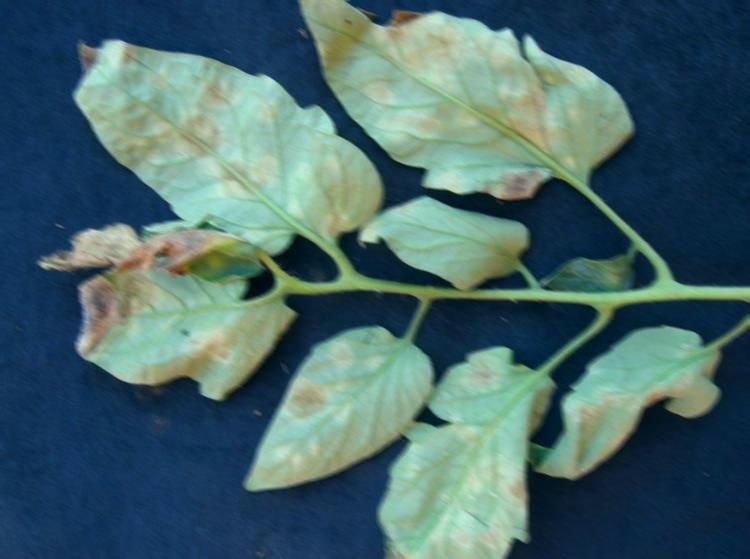Tomato mold leaf: (268, 0, 661, 206), (69, 31, 397, 267), (377, 339, 561, 558), (243, 326, 441, 506), (539, 328, 723, 485), (85, 274, 295, 403), (367, 190, 545, 288)
